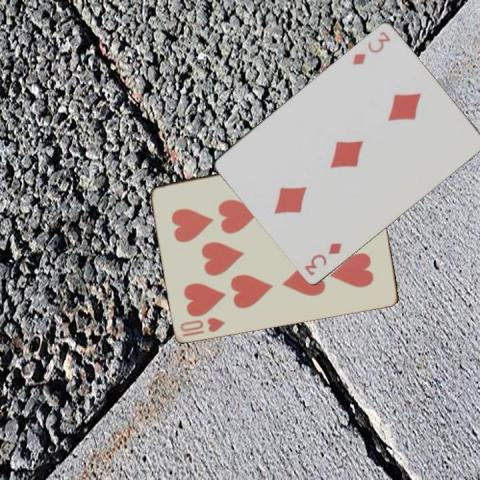10h: (178, 314, 228, 338)
3d: (349, 28, 392, 66), (302, 239, 344, 276)
